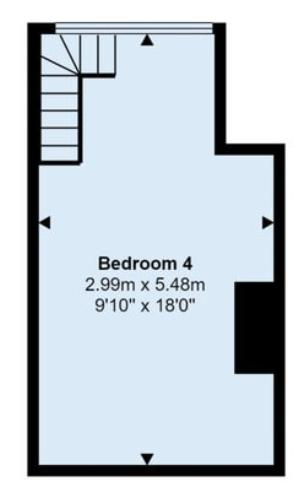stairs: (40, 33, 119, 167)
window: (55, 21, 211, 34)
